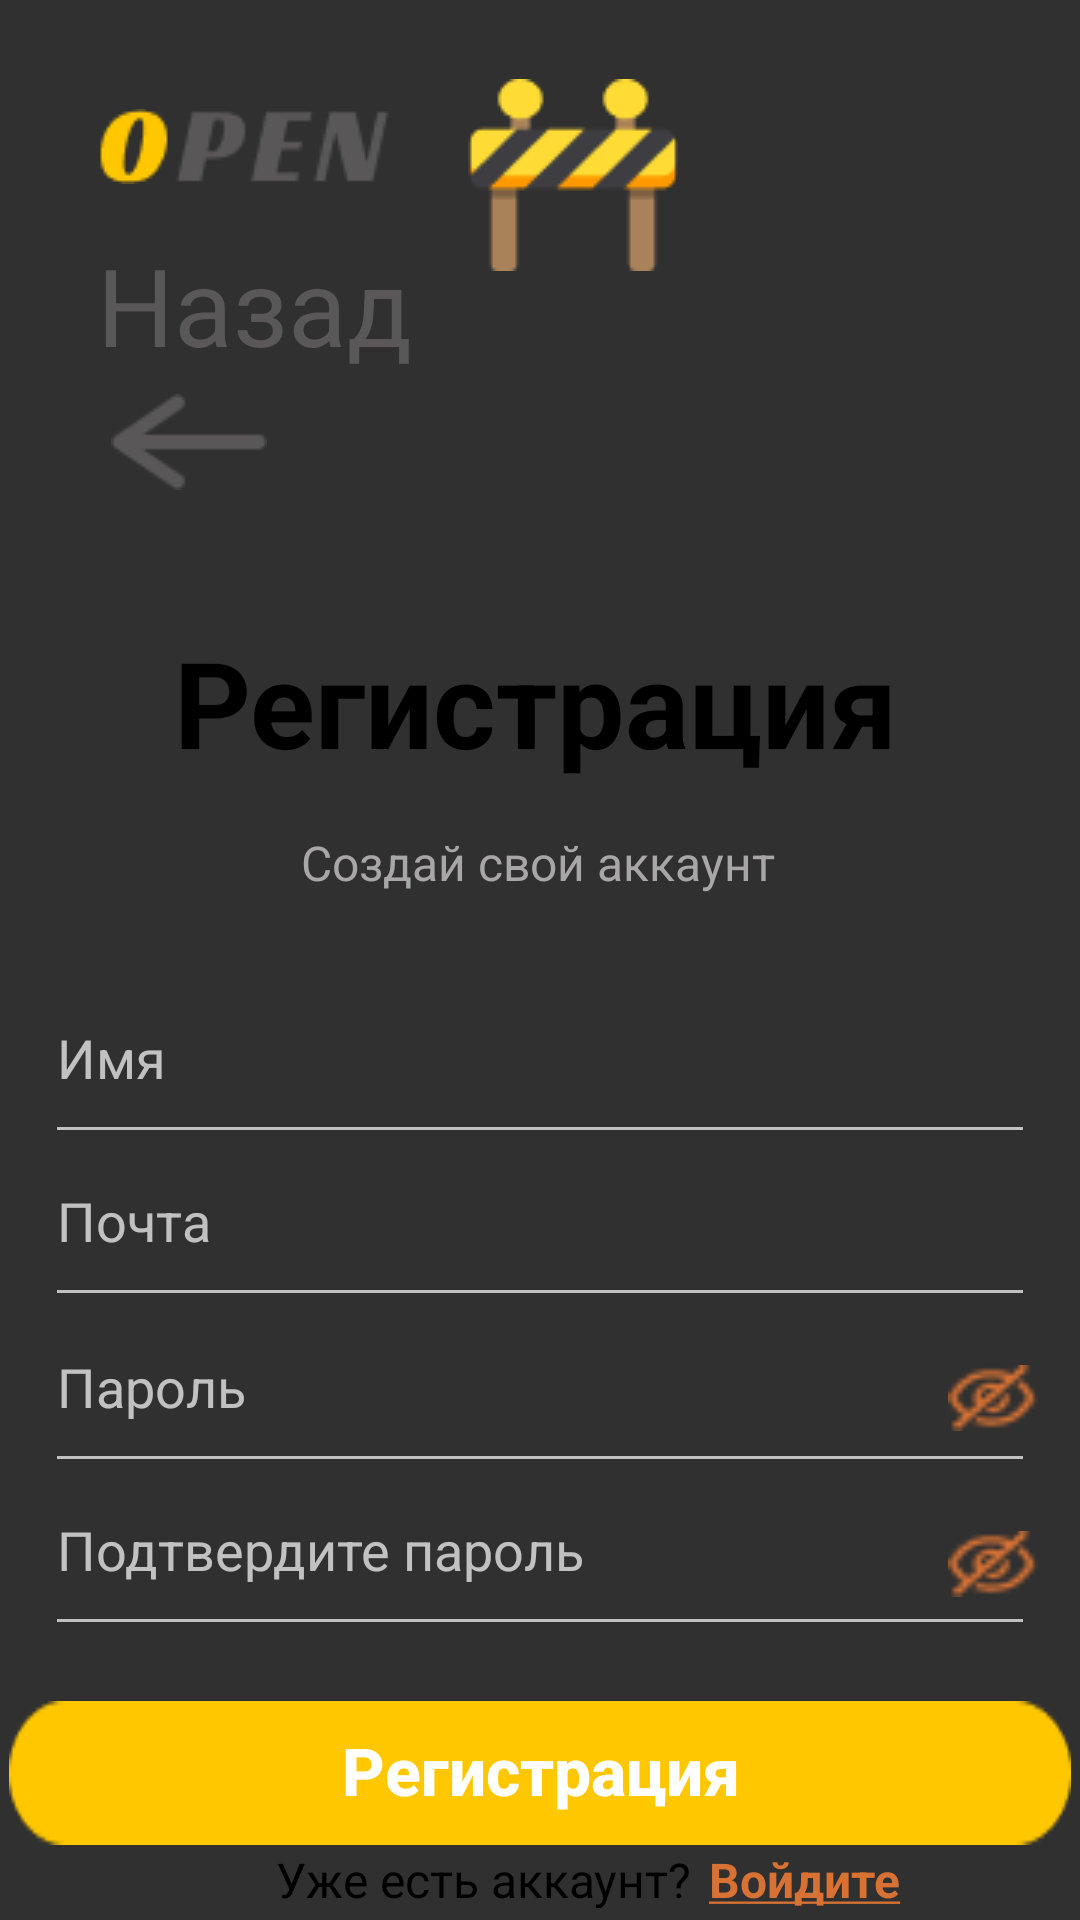

Screen size 1080 × 1920. Icon name, then its center in pixels as (x,y):
barrier: (573,175)
eye hide: (991,1398), (991,1564)
